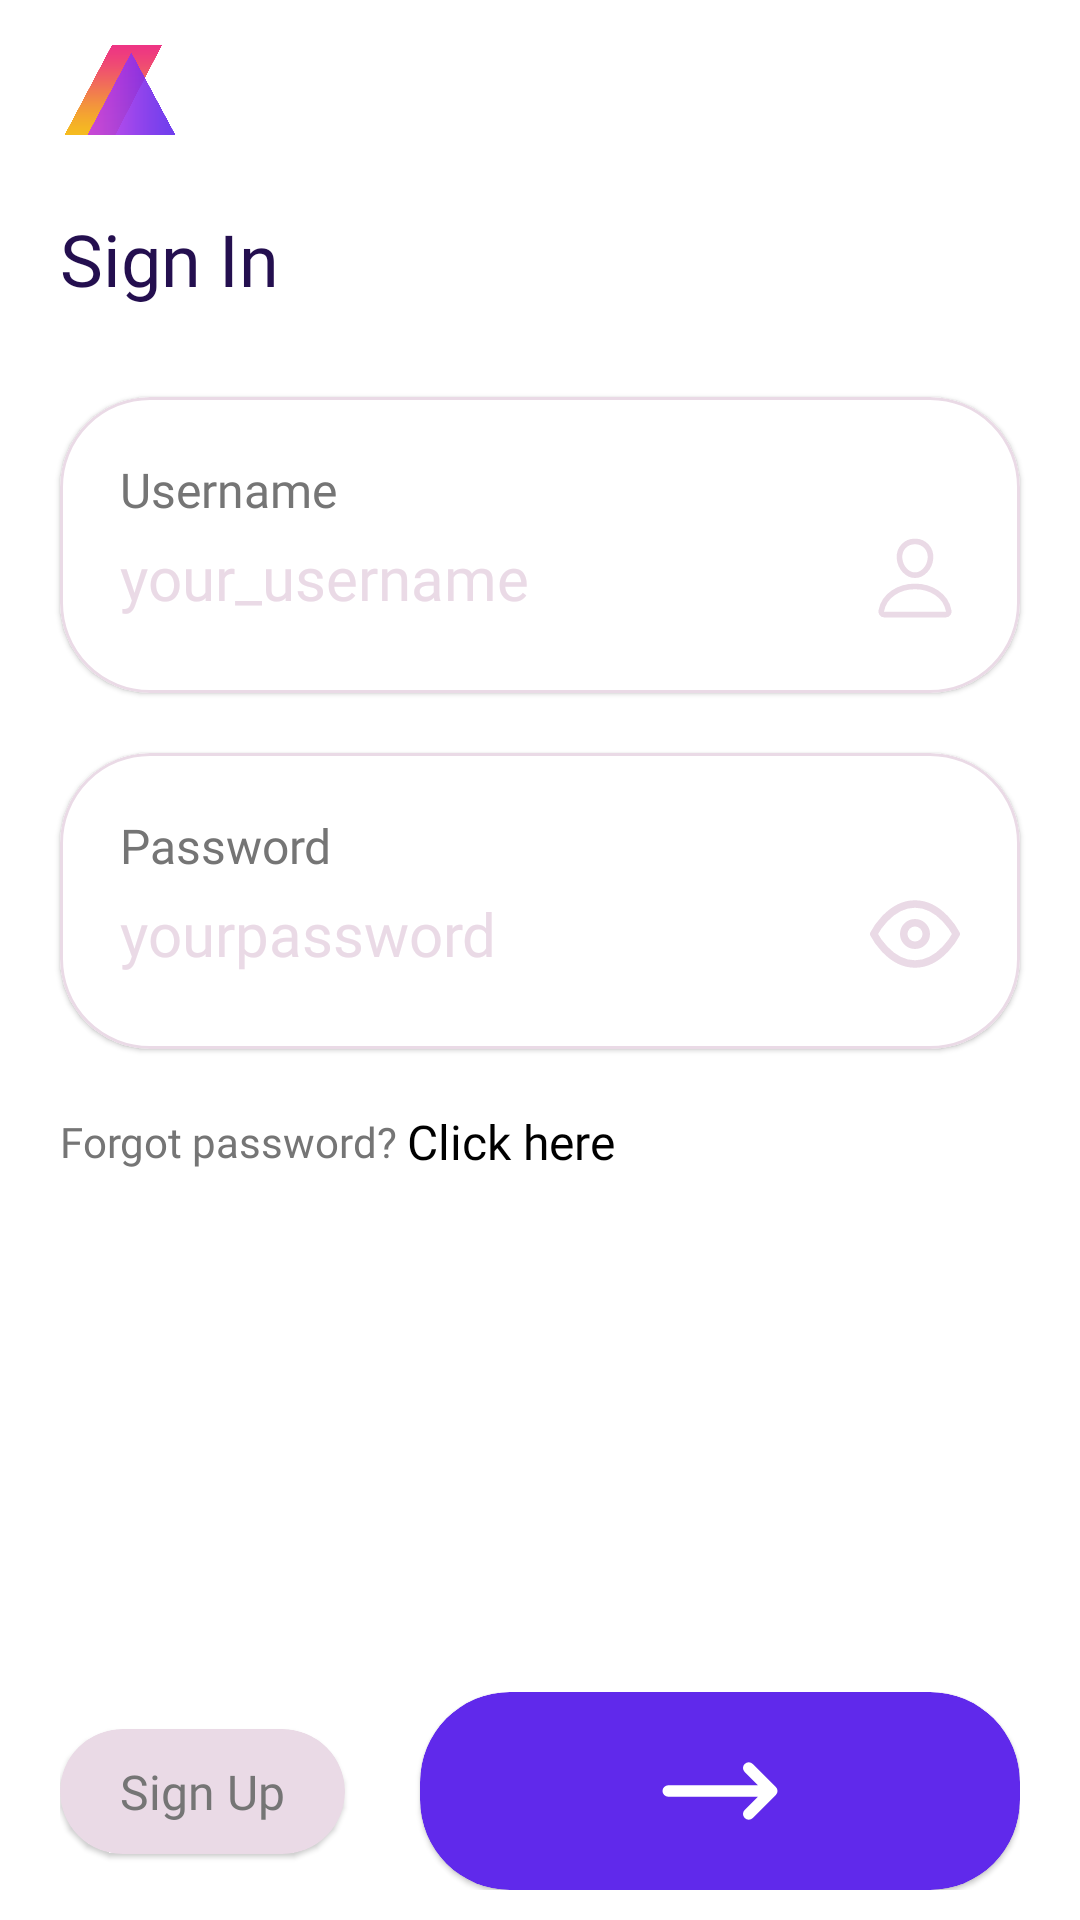

Point at icon controls on the screen. Image size 1080 × 1920, points as (x=x, y=y).
arrow right: (x=720, y=1791)
eye: (x=915, y=934)
person: (x=915, y=578)
